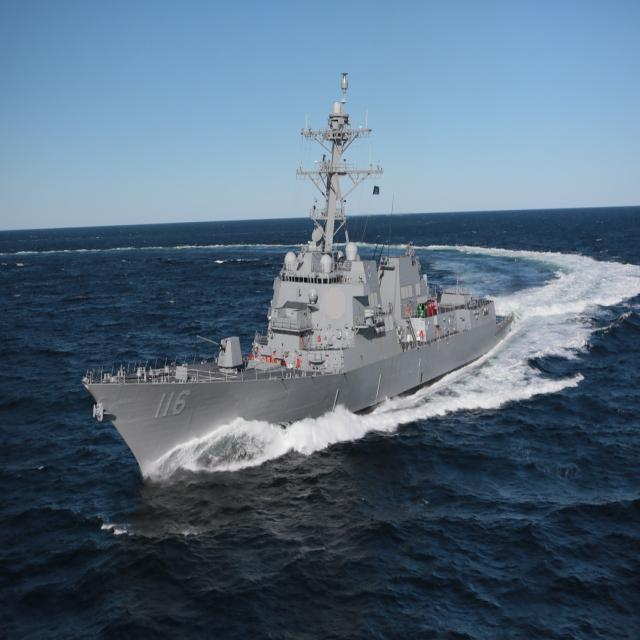navalvessels: (72, 87, 521, 498)
